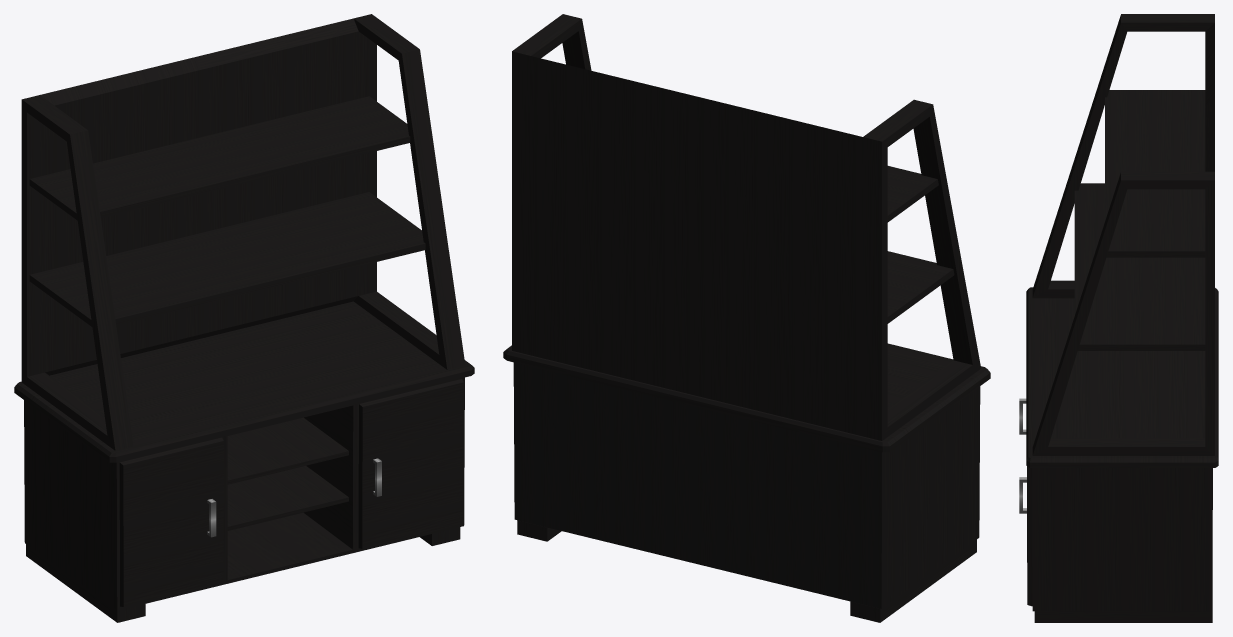
File: Hutch_A.FBX
3 views of the same model, side by side, from view 1: azimuth 30°, elevation 25°; view 2: azimuth 150°, elevation 25°; view 3: azimuth 270°, elevation 25° (orthographic). The views are drawn at different scales.
Visible parts, largest first — view 1: Hutch; view 2: Hutch; view 3: Hutch.
Boxes of the visible parts, box(x1,y1,x2,y2) form: Hutch: box(14, 14, 474, 622); Hutch: box(503, 14, 990, 622); Hutch: box(1019, 14, 1218, 622).
Size of the model in its own units: 338 by 403 by 164.
